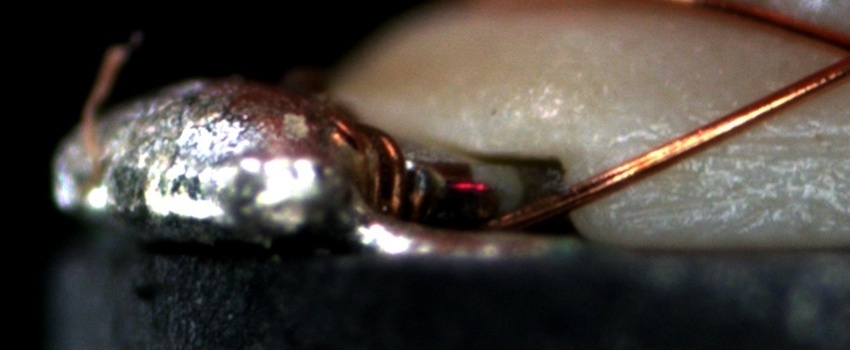CL: (827, 31, 850, 80)
DL: (696, 110, 849, 170)
TE: (322, 115, 407, 220)
